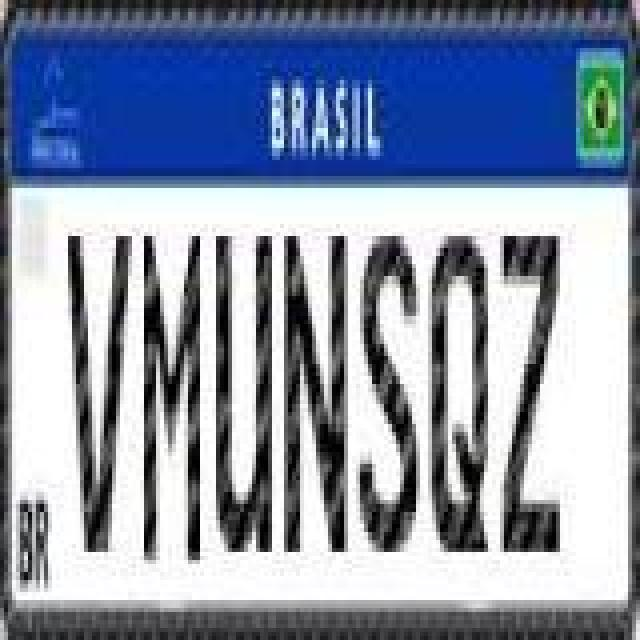M: (142, 232, 202, 568)
N: (282, 224, 350, 560)
Q: (424, 230, 488, 554)
S: (356, 230, 420, 554)
U: (214, 230, 274, 554)
V: (66, 230, 134, 554)
Z: (498, 230, 558, 554)
